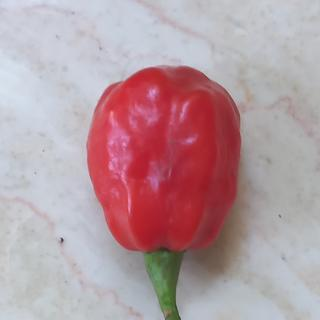Grade-A: (82, 62, 248, 258)
